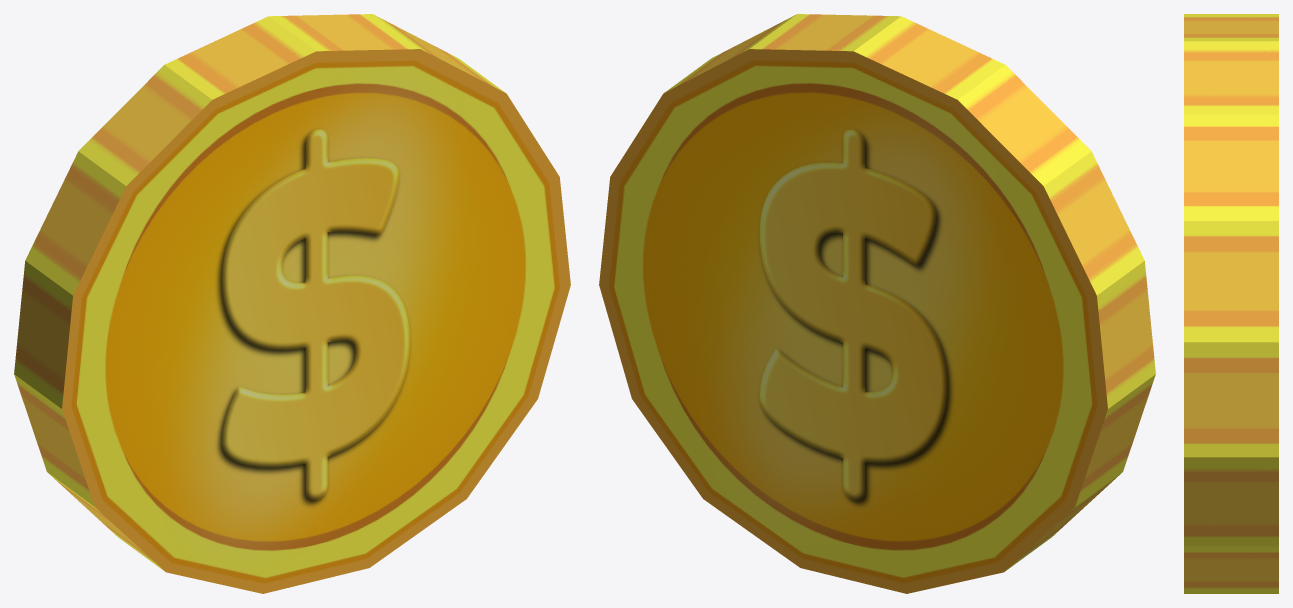
File: altinPara.fbx
3 views of the same model, side by side, from view 1: azimuth 30°, elevation 25°; view 2: azimuth 150°, elevation 25°; view 3: azimuth 270°, elevation 25° (orthographic).
Visible parts, largest first — view 1: altinpara; view 2: altinpara; view 3: altinpara.
Boxes of the visible parts, <box> form: altinpara: <box>14,14,570,593</box>; altinpara: <box>599,14,1155,593</box>; altinpara: <box>1184,14,1278,593</box>.
Bounding box in the file's own units: 6.19 × 6.15 × 1.01.
1 material, 1 textured.
